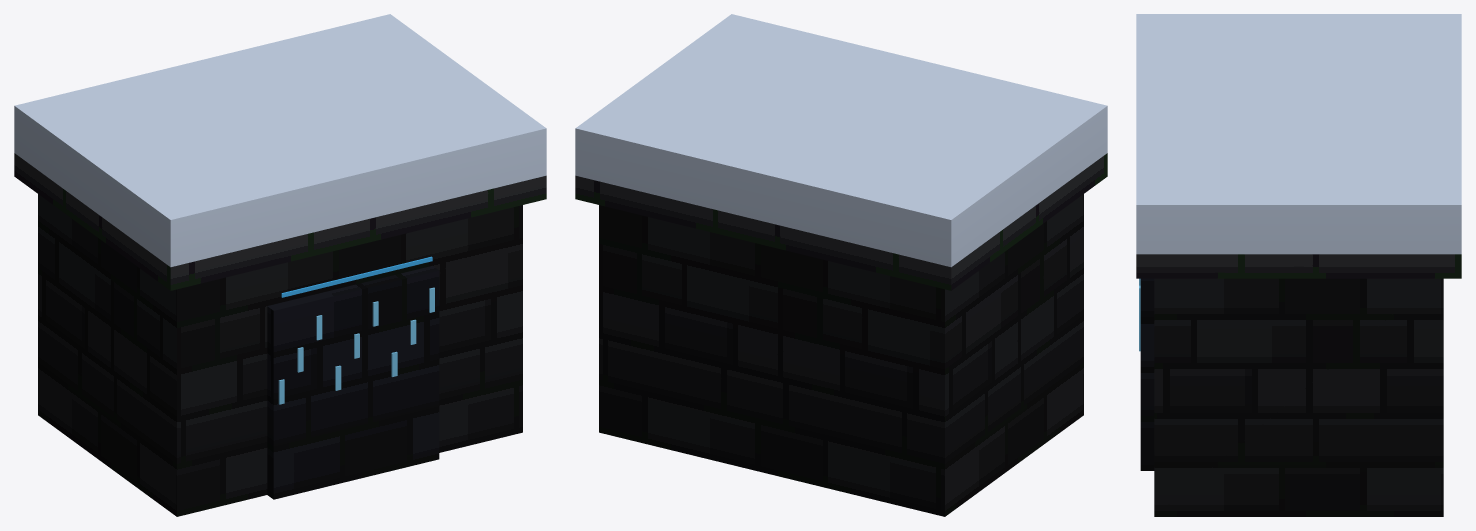
Rendered from rune_hall.glb.
The picture shows the model from 3 angles, left to right: view 1: azimuth 30°, elevation 25°; view 2: azimuth 150°, elevation 25°; view 3: azimuth 270°, elevation 25°; orthographic projection. The views are drawn at different scales.
Visible parts, largest first — view 1: rune_hall; view 2: rune_hall; view 3: rune_hall.
Boxes of the visible parts, x1=… form: rune_hall: x1=14, y1=14, x2=546, y2=516; rune_hall: x1=575, y1=14, x2=1107, y2=516; rune_hall: x1=1136, y1=14, x2=1461, y2=516.
Size of the model in its own units: 5 by 3.9 by 3.6.
3 materials, 1 textured.
